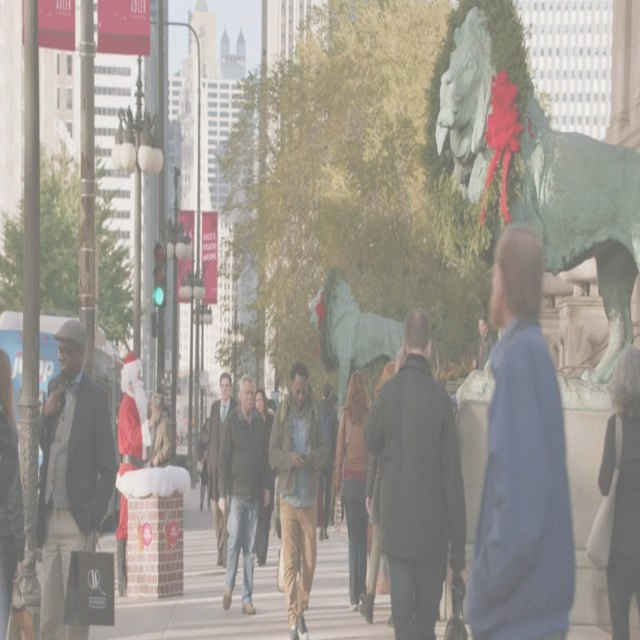pessoa: (463, 220, 577, 637), (358, 300, 478, 640), (20, 316, 122, 640), (265, 358, 335, 639), (586, 346, 640, 640), (106, 346, 164, 604), (215, 372, 275, 619), (358, 354, 400, 628), (334, 368, 372, 612), (0, 346, 26, 640), (206, 370, 240, 571), (254, 387, 278, 568), (316, 380, 339, 542), (144, 399, 178, 476), (150, 392, 173, 469), (328, 392, 341, 527), (196, 417, 212, 512), (472, 313, 494, 372), (266, 392, 278, 417), (467, 353, 478, 374)
